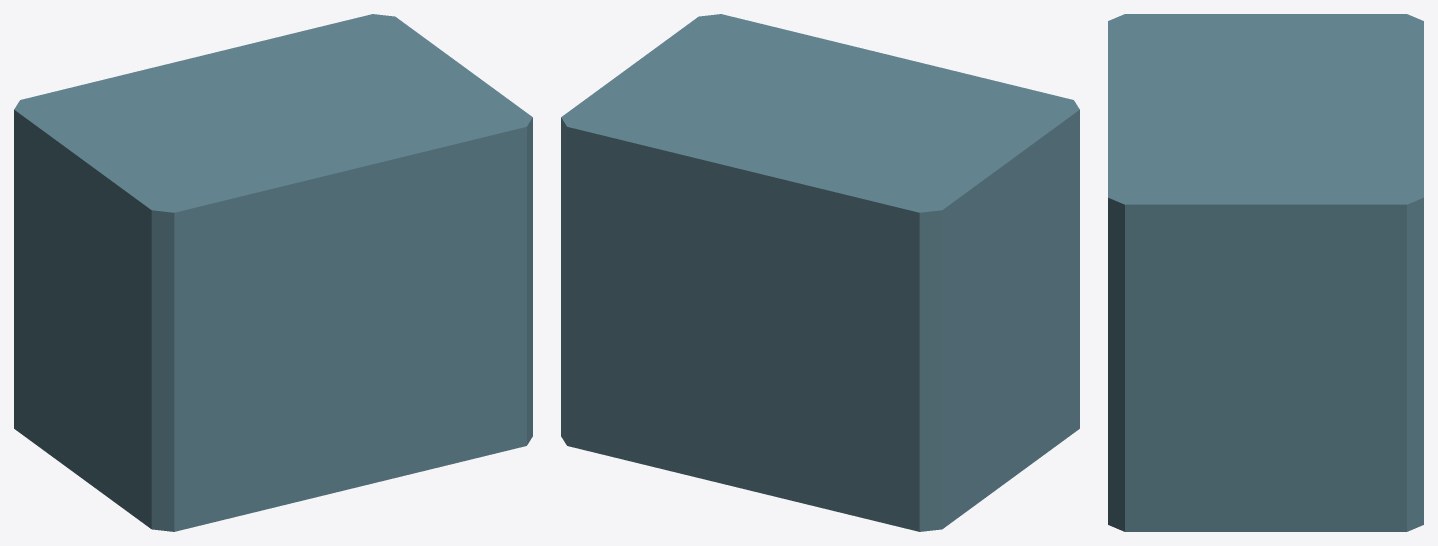
Rendered from Crate_LOD1.obj.
3 renders of one model, left to right at view 1: azimuth 30°, elevation 25°; view 2: azimuth 150°, elevation 25°; view 3: azimuth 270°, elevation 25°, orthographic. The views are drawn at different scales.
Parts seen in each view (by area): view 1: Asset; view 2: Asset; view 3: Asset.
Boxes of the visible parts, box(x1,y1,x2,y2) form: Asset: box(14, 14, 532, 531); Asset: box(561, 14, 1079, 531); Asset: box(1108, 14, 1423, 531).
Bounding box in the file's own units: 2 × 1.6 × 1.4.
